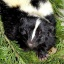skunk: (1, 0, 56, 58)
